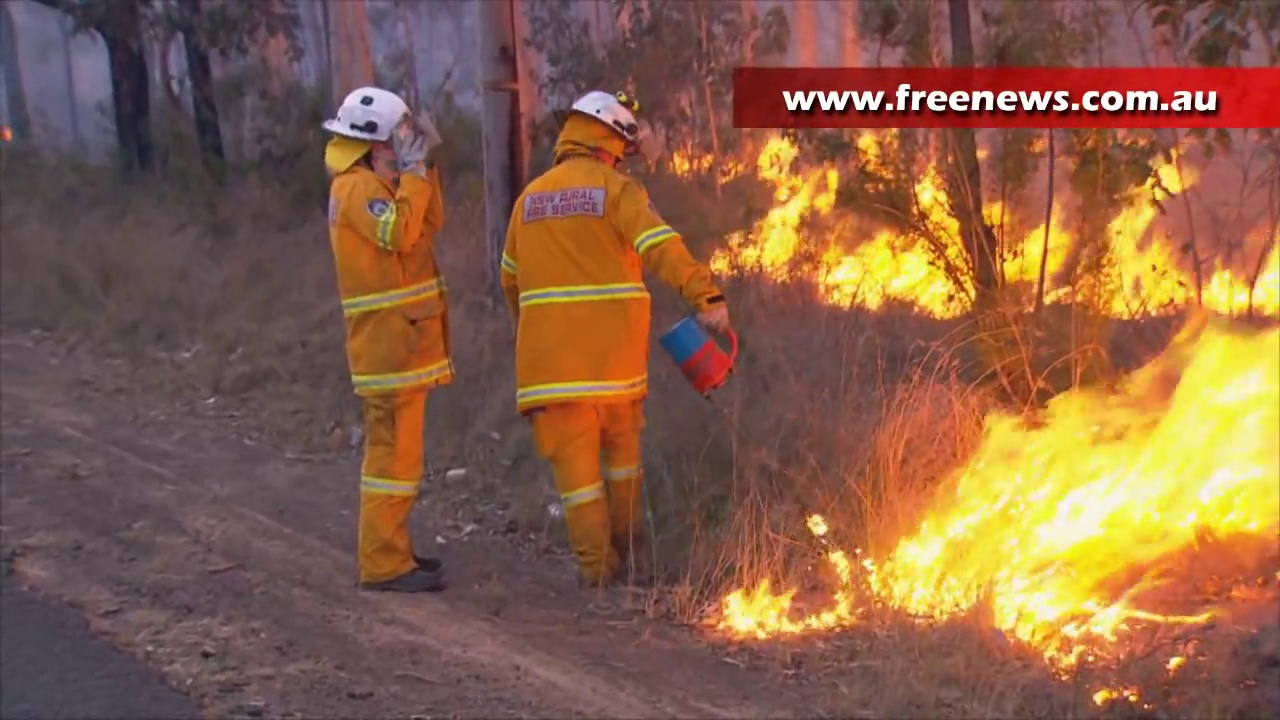fire: (875, 251, 1280, 667), (715, 139, 971, 311), (1091, 164, 1192, 315), (719, 580, 872, 641), (997, 206, 1072, 286), (673, 144, 708, 175), (805, 515, 827, 537)
